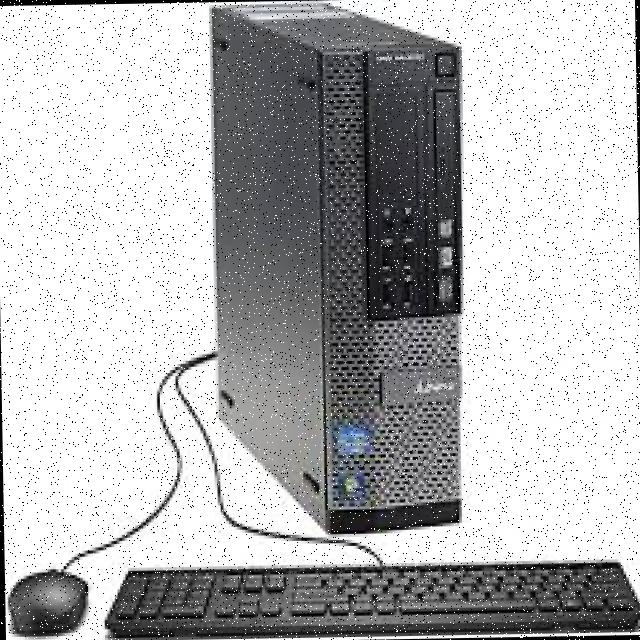Computer: (169, 0, 498, 550)
